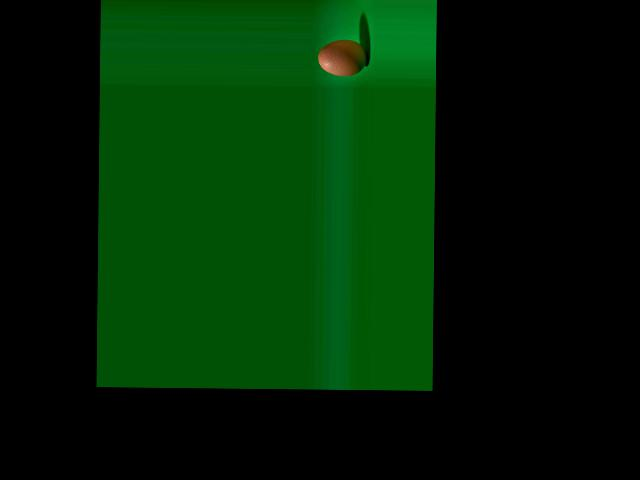egg: (318, 39, 367, 76)
